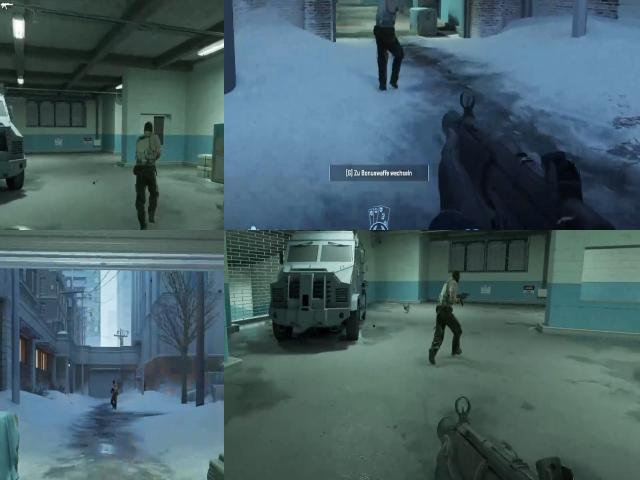T: (131, 131, 162, 182), (372, 0, 407, 44), (437, 278, 463, 318), (110, 376, 121, 403)
T-Head: (140, 119, 156, 140), (448, 268, 462, 290), (112, 380, 118, 388)
